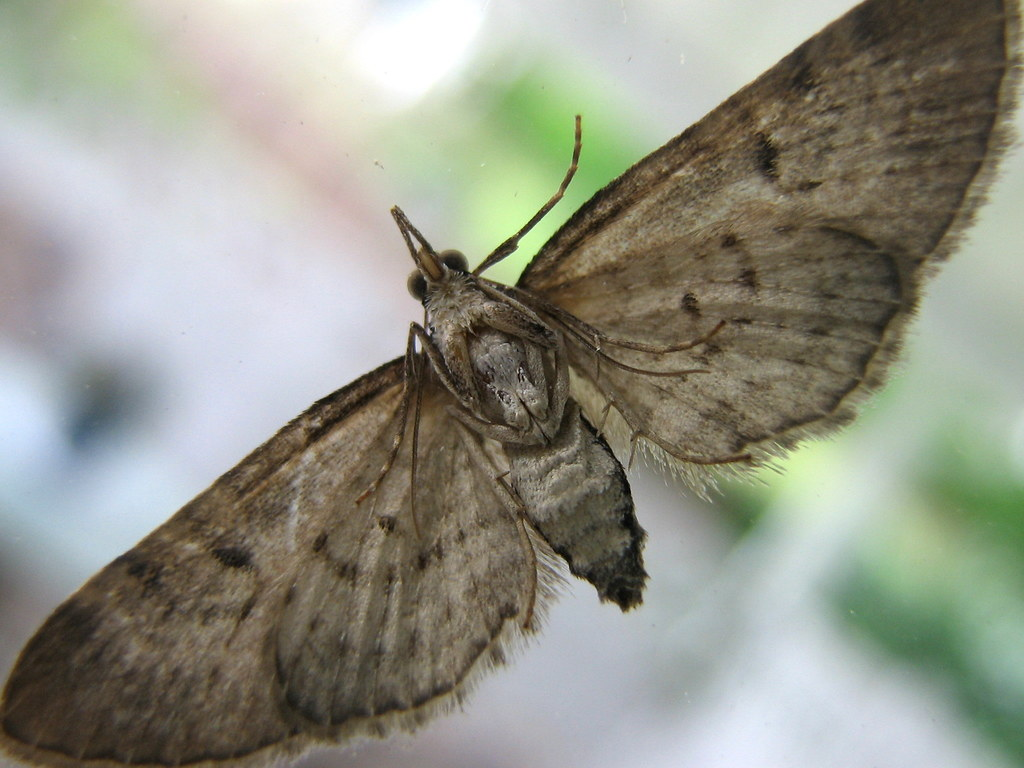Butterfly: (1, 3, 1017, 768)
